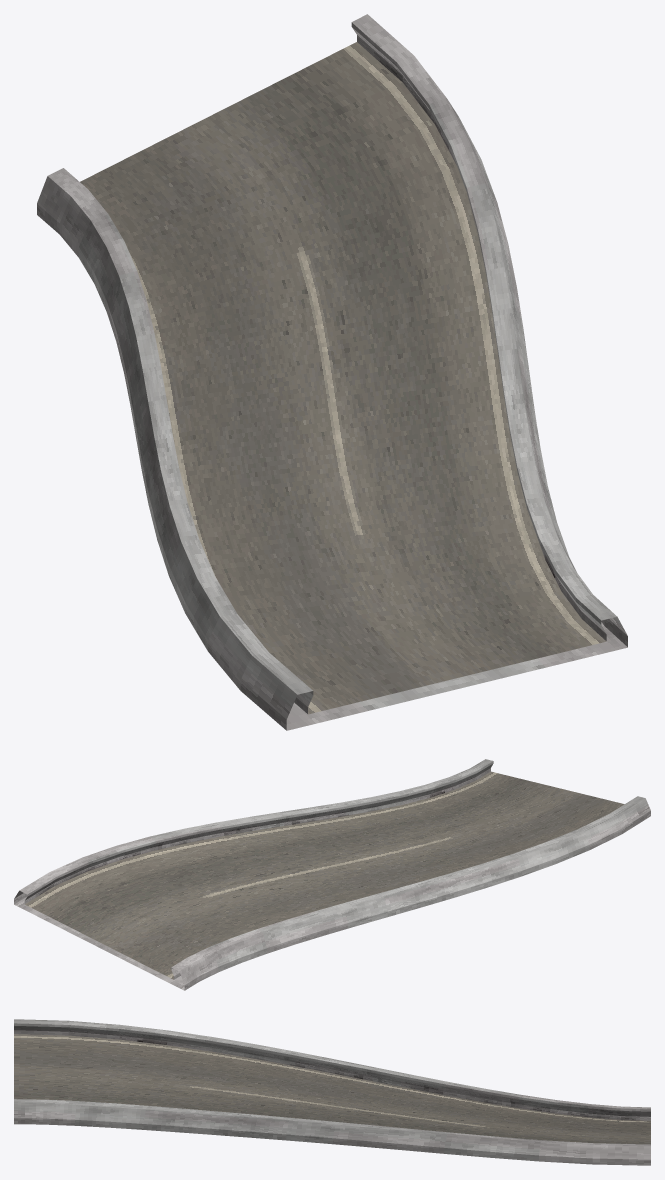
The model's file is chicane-right1x3.glb.
3 renders of one model, top to bottom at view 1: azimuth 30°, elevation 25°; view 2: azimuth 150°, elevation 25°; view 3: azimuth 270°, elevation 25°, orthographic. The views are drawn at different scales.
Parts seen in each view (by area): view 1: road-Chicane-Flat-HalfBankedLeft-Even-Right1-Size3; view 2: road-Chicane-Flat-HalfBankedLeft-Even-Right1-Size3; view 3: road-Chicane-Flat-HalfBankedLeft-Even-Right1-Size3.
Part boxes in pixels (x1,y1,x2,y2): road-Chicane-Flat-HalfBankedLeft-Even-Right1-Size3: [37, 14, 627, 730]; road-Chicane-Flat-HalfBankedLeft-Even-Right1-Size3: [14, 759, 650, 990]; road-Chicane-Flat-HalfBankedLeft-Even-Right1-Size3: [14, 1019, 650, 1165].
Size of the model in its own units: 2 by 0.3359 by 3.
2 materials, 2 textured.
